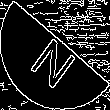N_NE: (26, 23, 84, 87)
